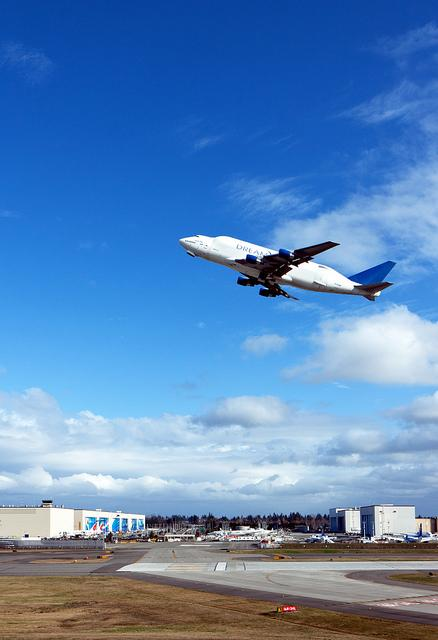airplane: (176, 230, 399, 304)
